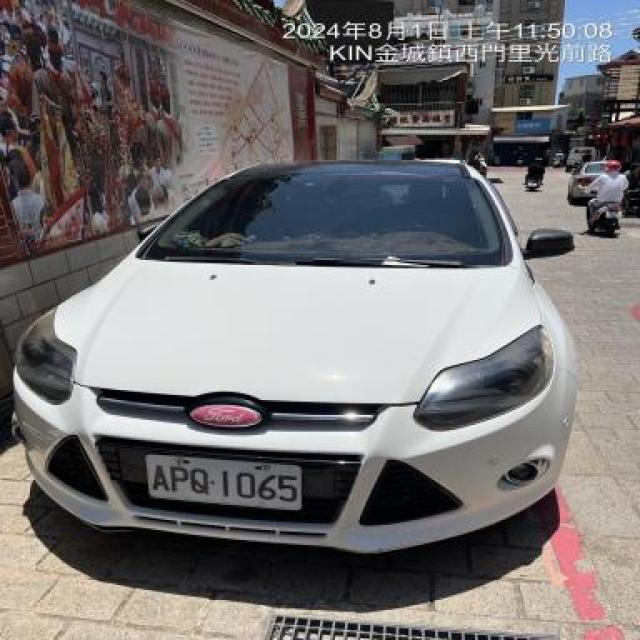Legalparking: (6, 74, 604, 574)
